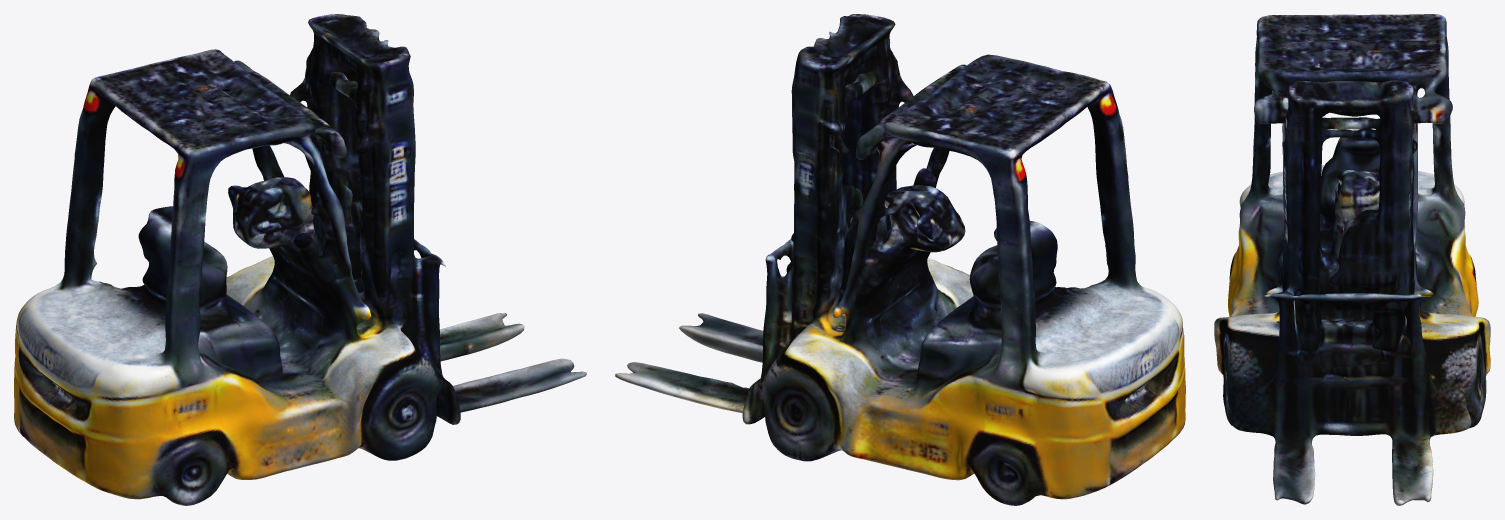
Rendered from forklift.gltf.
3 views of the same model, side by side, from view 1: azimuth 30°, elevation 25°; view 2: azimuth 150°, elevation 25°; view 3: azimuth 270°, elevation 25° (orthographic). The views are drawn at different scales.
Visible parts, largest first — view 1: model; view 2: model; view 3: model.
Boxes of the visible parts, x1,y1,x2,y2 form: model: (14,14,586,505); model: (615,14,1185,505); model: (1214,14,1490,505).
Bounding box in the file's own units: 1.57 × 1.11 × 0.811.
Materials: 1 (1 with a texture image).
